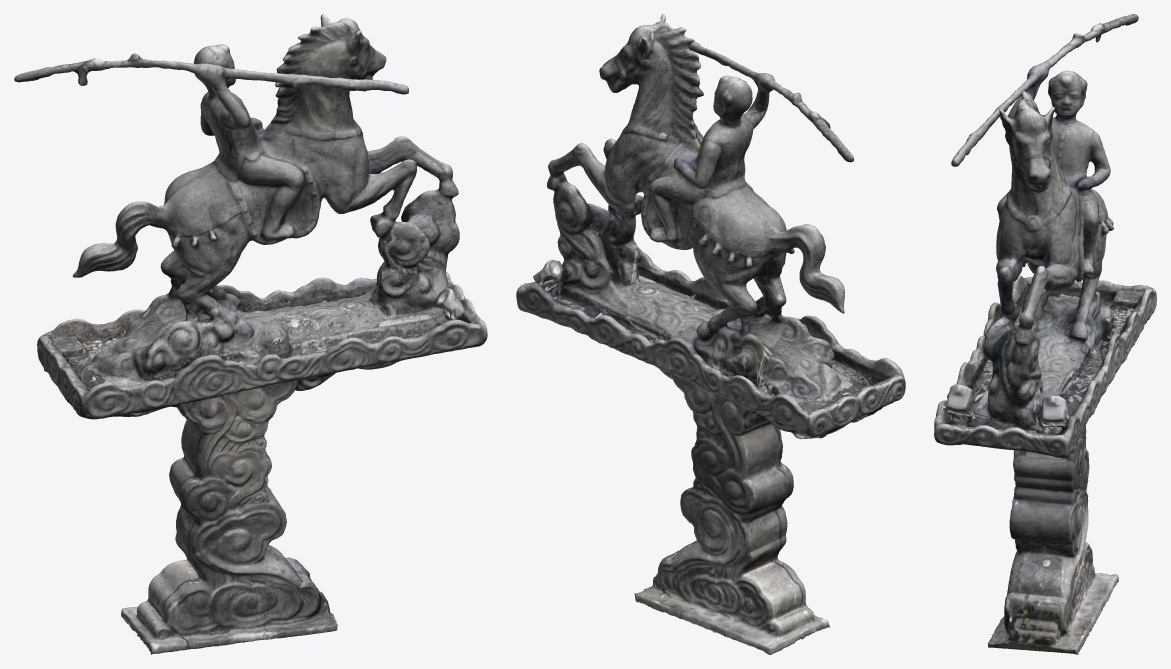
Rendered from phu-dong-thien-vuong_ver1.gltf.
3 views of the same model, side by side, from view 1: azimuth 30°, elevation 25°; view 2: azimuth 150°, elevation 25°; view 3: azimuth 270°, elevation 25° (orthographic). The views are drawn at different scales.
Parts seen in each view (by area): view 1: Tuong_Phu_Dong_SeamsColor.001; view 2: Tuong_Phu_Dong_SeamsColor.001; view 3: Tuong_Phu_Dong_SeamsColor.001.
Boxes of the visible parts, x1=… form: Tuong_Phu_Dong_SeamsColor.001: x1=14, y1=14, x2=487, y2=654; Tuong_Phu_Dong_SeamsColor.001: x1=516, y1=14, x2=905, y2=654; Tuong_Phu_Dong_SeamsColor.001: x1=934, y1=14, x2=1156, y2=654.
Size of the model in its own units: 13.55 by 19.51 by 7.09.
1 material, 1 textured.
